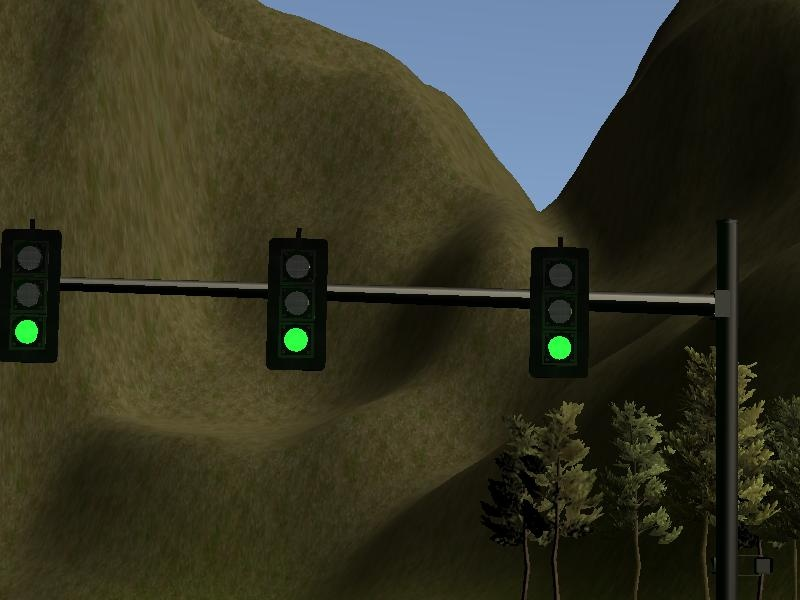GREEN: (267, 240, 327, 373), (529, 249, 589, 380), (3, 229, 59, 364)
